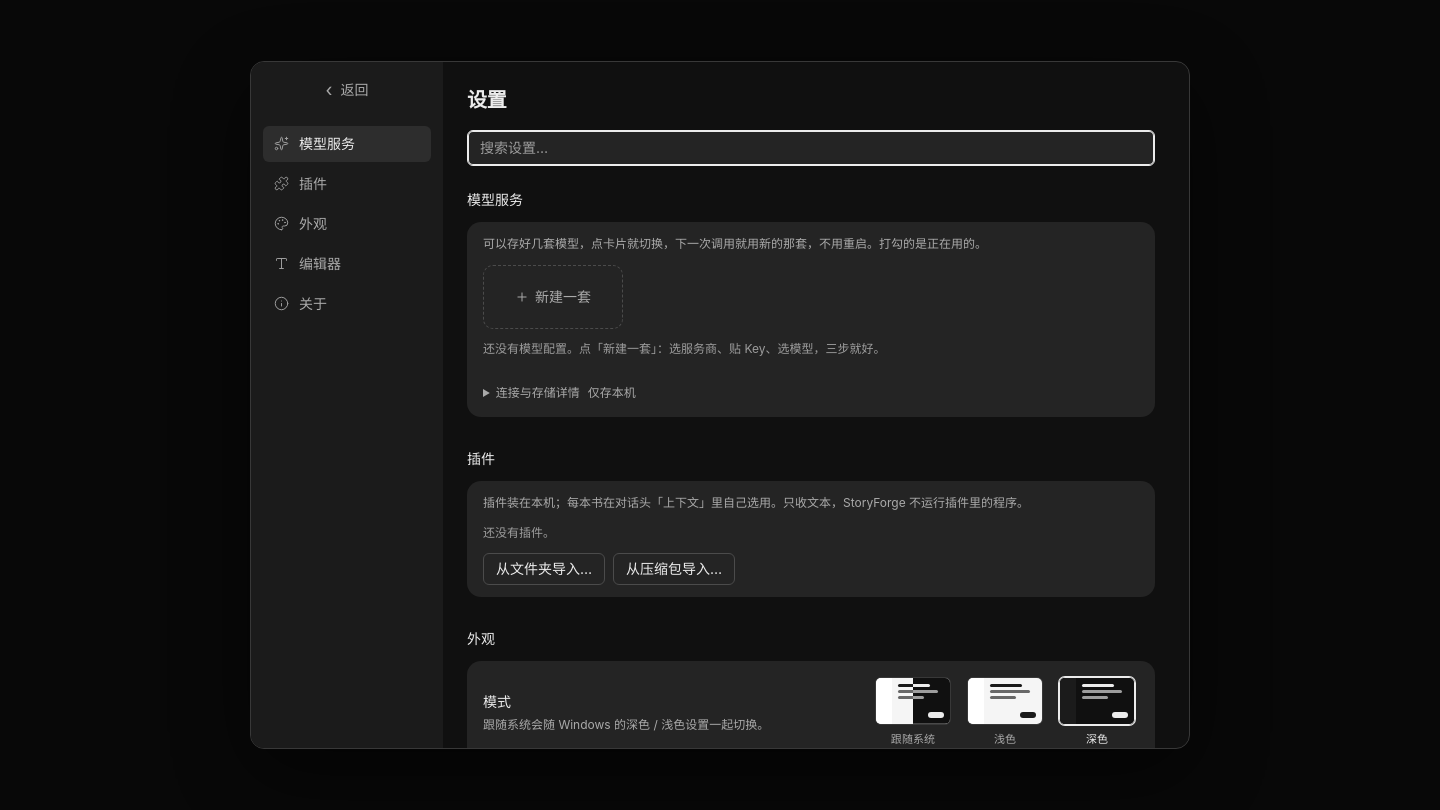
预览：三组计数、点开看全文、跳过的文件默认折叠、问题列出
The width and height of the screenshot is (1440, 810).
Click the button "从文件夹导入…" at x=544, y=569, box [483, 553, 605, 585]
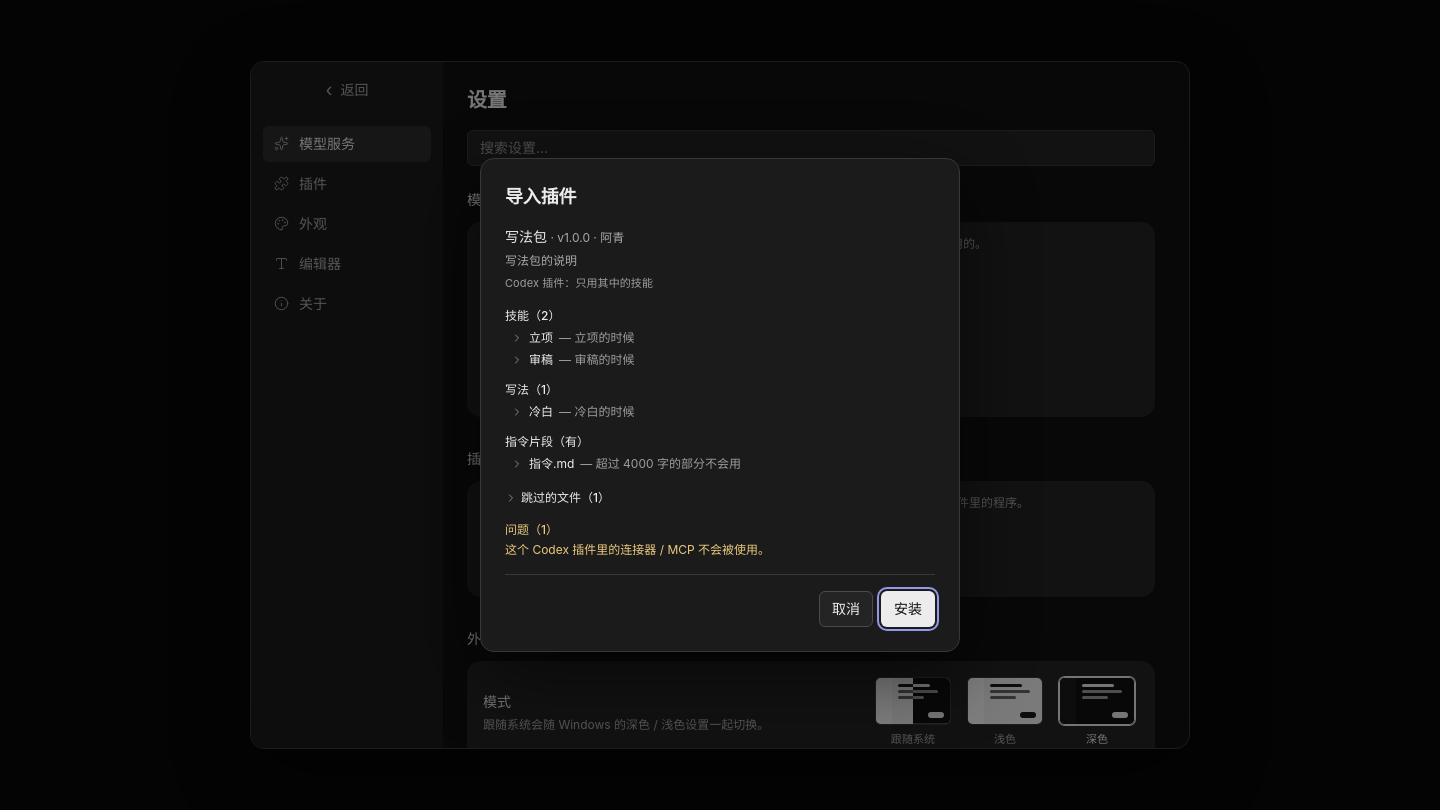
Expected: the text "Codex 插件：只用其中的技能" is shown, [505, 276, 653, 290]
Expected: the heading "技能（2）" is shown, [505, 308, 560, 323]
Expected: the heading "写法（1）" is shown, [505, 382, 558, 397]
Click the button "立项 — 立项的时候" at x=604, y=337, box [505, 328, 935, 348]
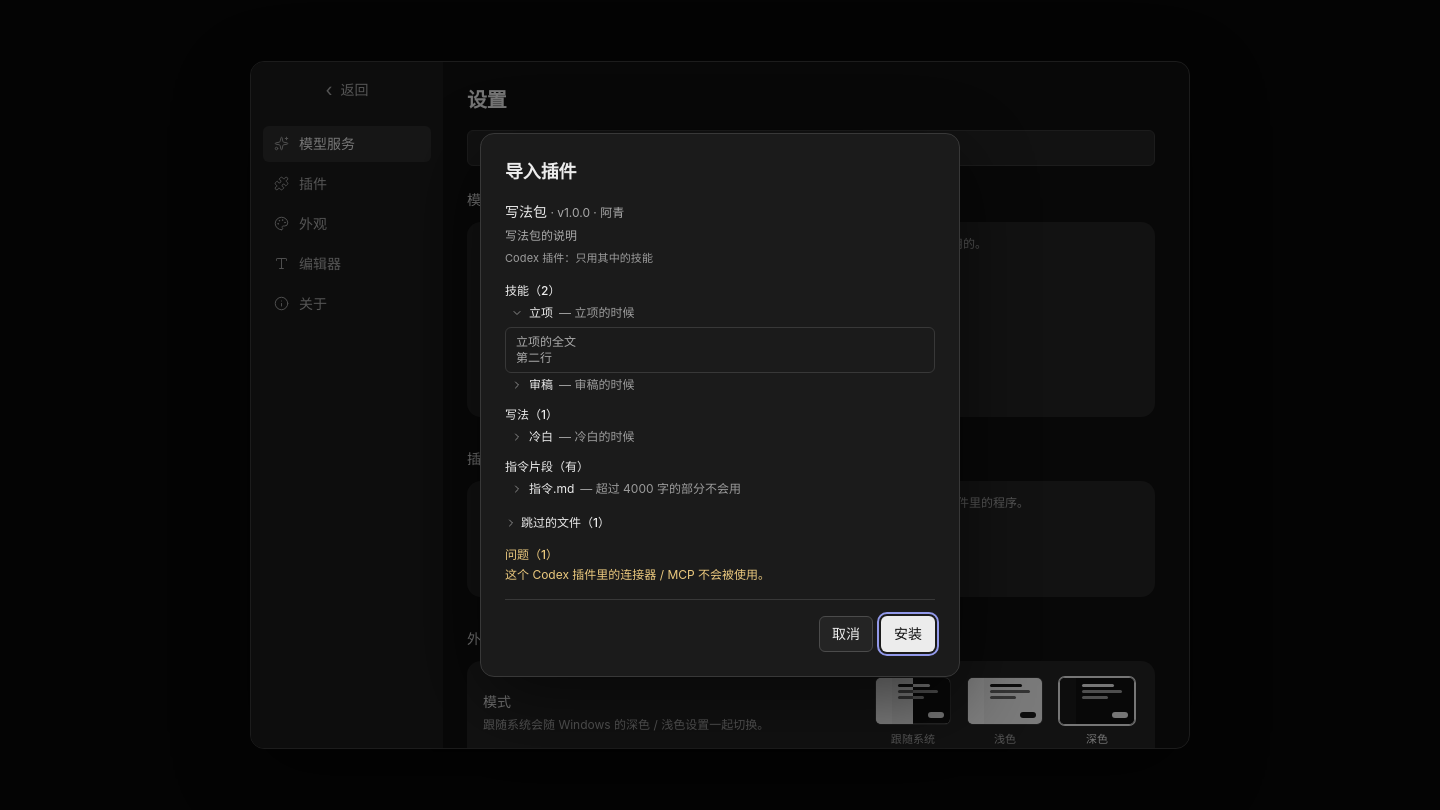
Click the button "立项 — 立项的时候" at x=604, y=312, box [505, 303, 935, 323]
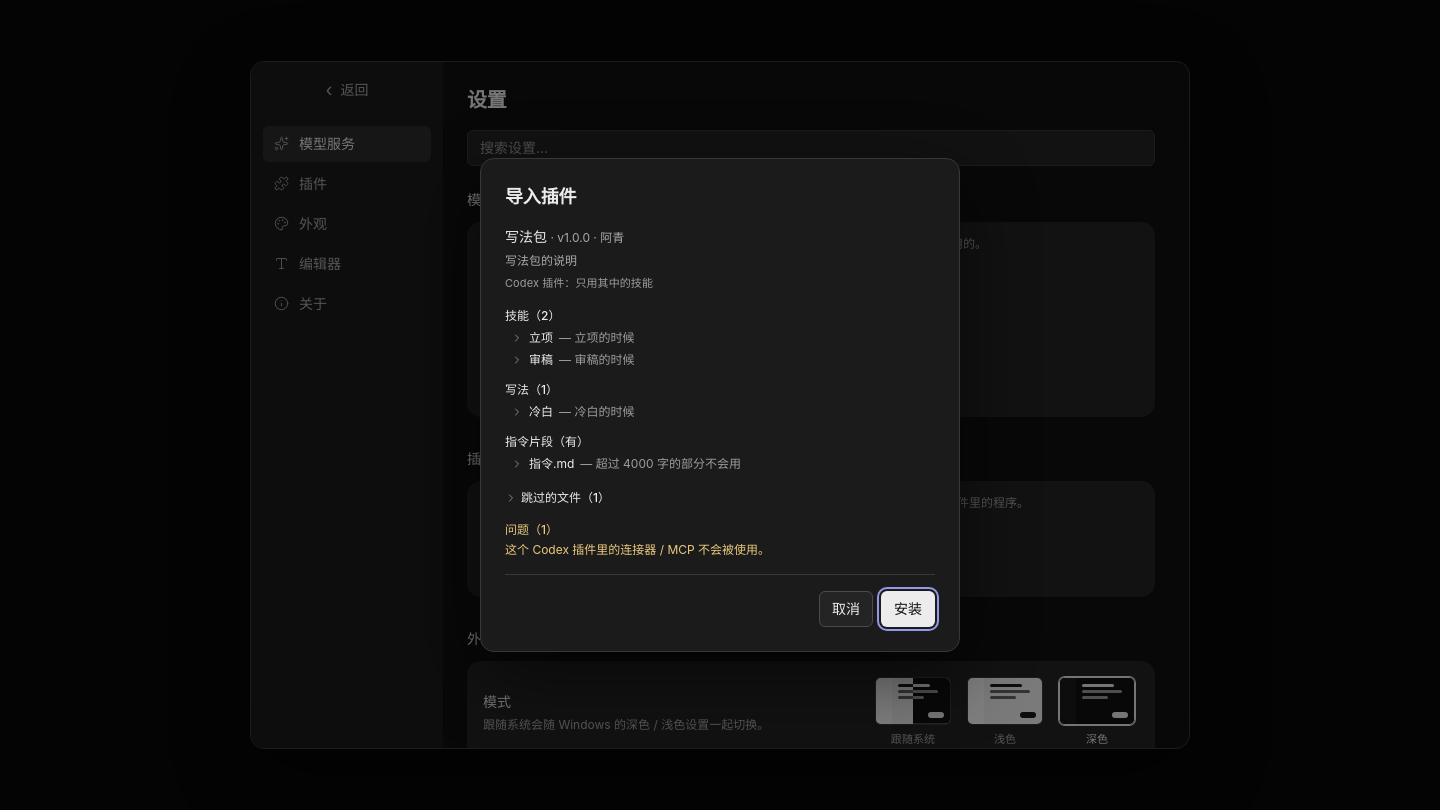
Expected: the button "跳过的文件（1）" is shown
Click the button "跳过的文件（1）" at x=558, y=498, box [505, 490, 610, 506]
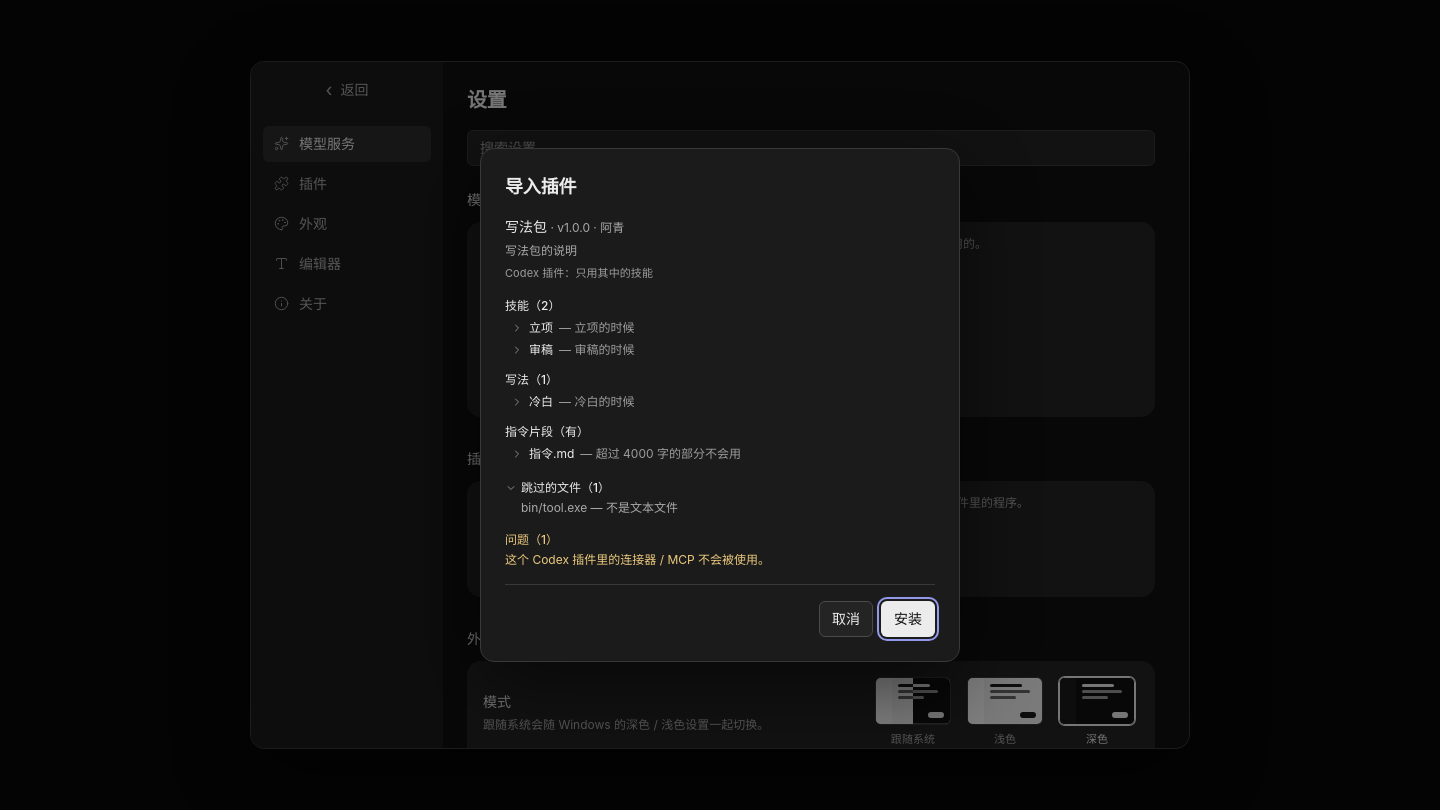
Expected: the list "bin/tool.exe — 不是文本文件" is shown, [521, 500, 678, 515]
